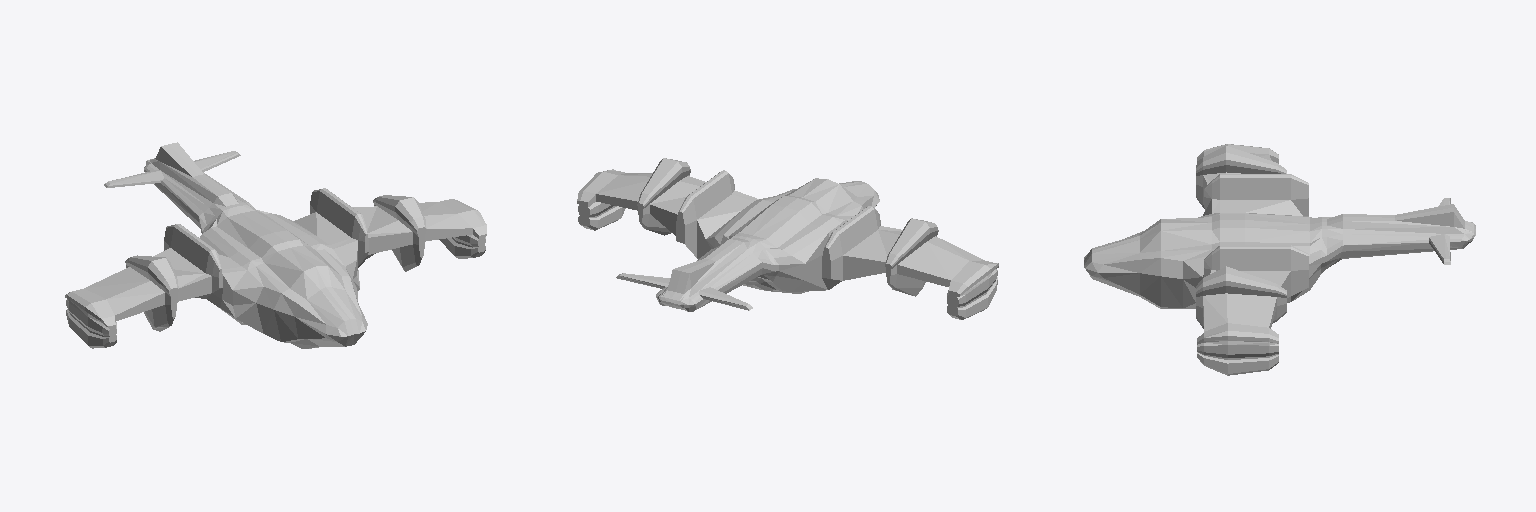
The model's file is Heri.obj.
The picture shows the model from 3 angles: view 1: azimuth 30°, elevation 25°; view 2: azimuth 150°, elevation 25°; view 3: azimuth 270°, elevation 25°; orthographic projection.
Parts seen in each view (by area): view 1: Cube; view 2: Cube; view 3: Cube.
Part boxes in pixels (bbox=[...]): Cube: bbox=[65, 142, 486, 348]; Cube: bbox=[577, 158, 998, 319]; Cube: bbox=[1084, 144, 1475, 375].
Size of the model in its own units: 25.7 by 6.03 by 22.16.